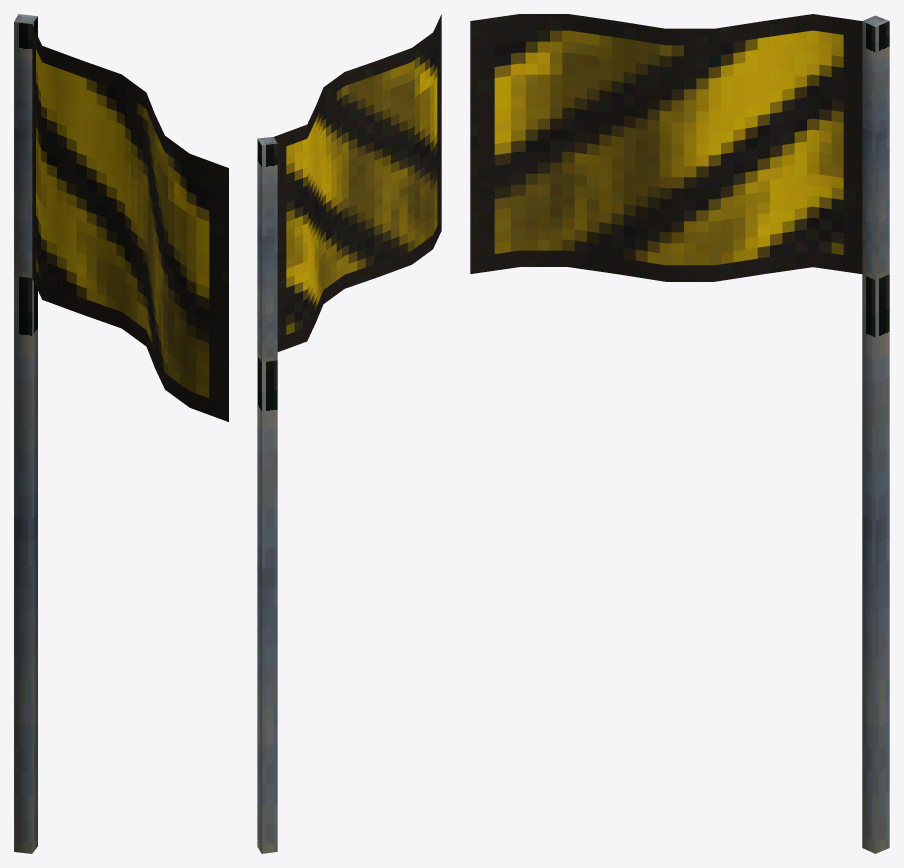
3 renders of one model, left to right at view 1: azimuth 30°, elevation 25°; view 2: azimuth 150°, elevation 25°; view 3: azimuth 270°, elevation 25°, orthographic. The views are drawn at different scales.
Visible parts, largest first — view 1: Slim_obj_028; view 2: Slim_obj_028; view 3: Slim_obj_028.
Boxes of the visible parts, left/top/right/bottom form: Slim_obj_028: left=14, top=14, right=228, bottom=853; Slim_obj_028: left=257, top=14, right=441, bottom=853; Slim_obj_028: left=470, top=14, right=889, bottom=853.
Bounding box in the file's own units: 0.0566 × 1.49 × 0.6836.
2 materials, 2 textured.
